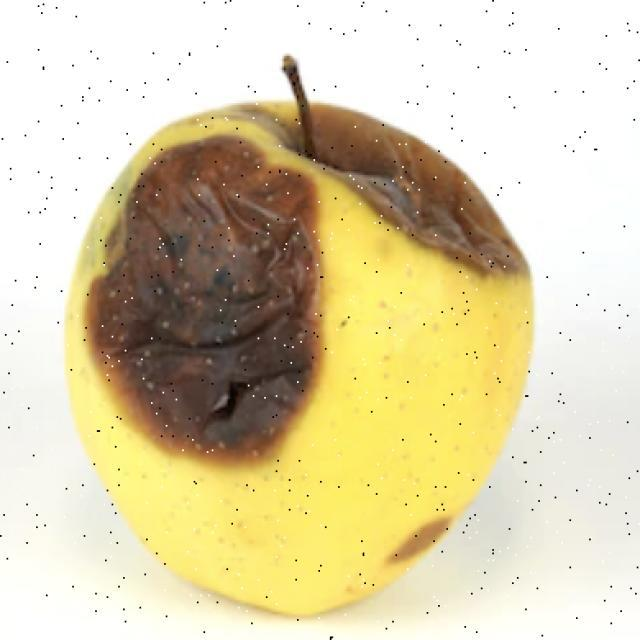Rotten: (85, 94, 552, 594)
